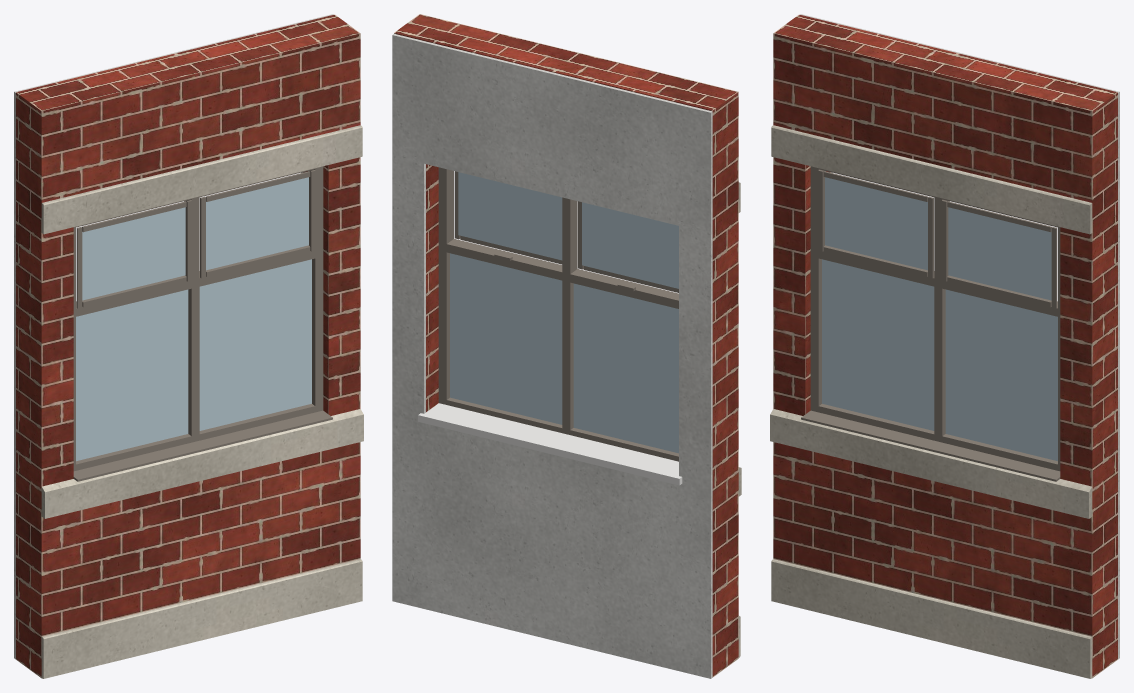
File: w_u_win.glb
3 renders of one model, left to right at view 1: azimuth 30°, elevation 25°; view 2: azimuth 150°, elevation 25°; view 3: azimuth 330°, elevation 25°, orthographic.
Visible parts, largest first — view 1: w_u_win_brick, w_u_win_glass, w_u_win_precast, w_u_win_alu, w_u_win_plaster; view 2: w_u_win_plaster, w_u_win_glass, w_u_win_brick, w_u_win_alu, w_u_win_trim; view 3: w_u_win_brick, w_u_win_glass, w_u_win_precast, w_u_win_alu, w_u_win_plaster.
Part boxes in pixels (x1,y1,x2,y2): w_u_win_brick: [16, 14, 360, 677]; w_u_win_glass: [76, 177, 311, 461]; w_u_win_precast: [41, 125, 363, 678]; w_u_win_alu: [73, 166, 332, 481]; w_u_win_plaster: [14, 14, 333, 659]; w_u_win_plaster: [392, 33, 712, 678]; w_u_win_glass: [450, 172, 678, 453]; w_u_win_brick: [394, 14, 738, 677]; w_u_win_alu: [438, 167, 678, 461]; w_u_win_trim: [418, 403, 682, 485]; w_u_win_brick: [773, 14, 1117, 677]; w_u_win_glass: [822, 177, 1057, 461]; w_u_win_precast: [770, 125, 1092, 678]; w_u_win_alu: [801, 166, 1060, 481]; w_u_win_plaster: [800, 14, 1119, 659].
Bounding box in the file's own units: 2 × 3.4 × 0.375.
6 materials, 3 textured.
